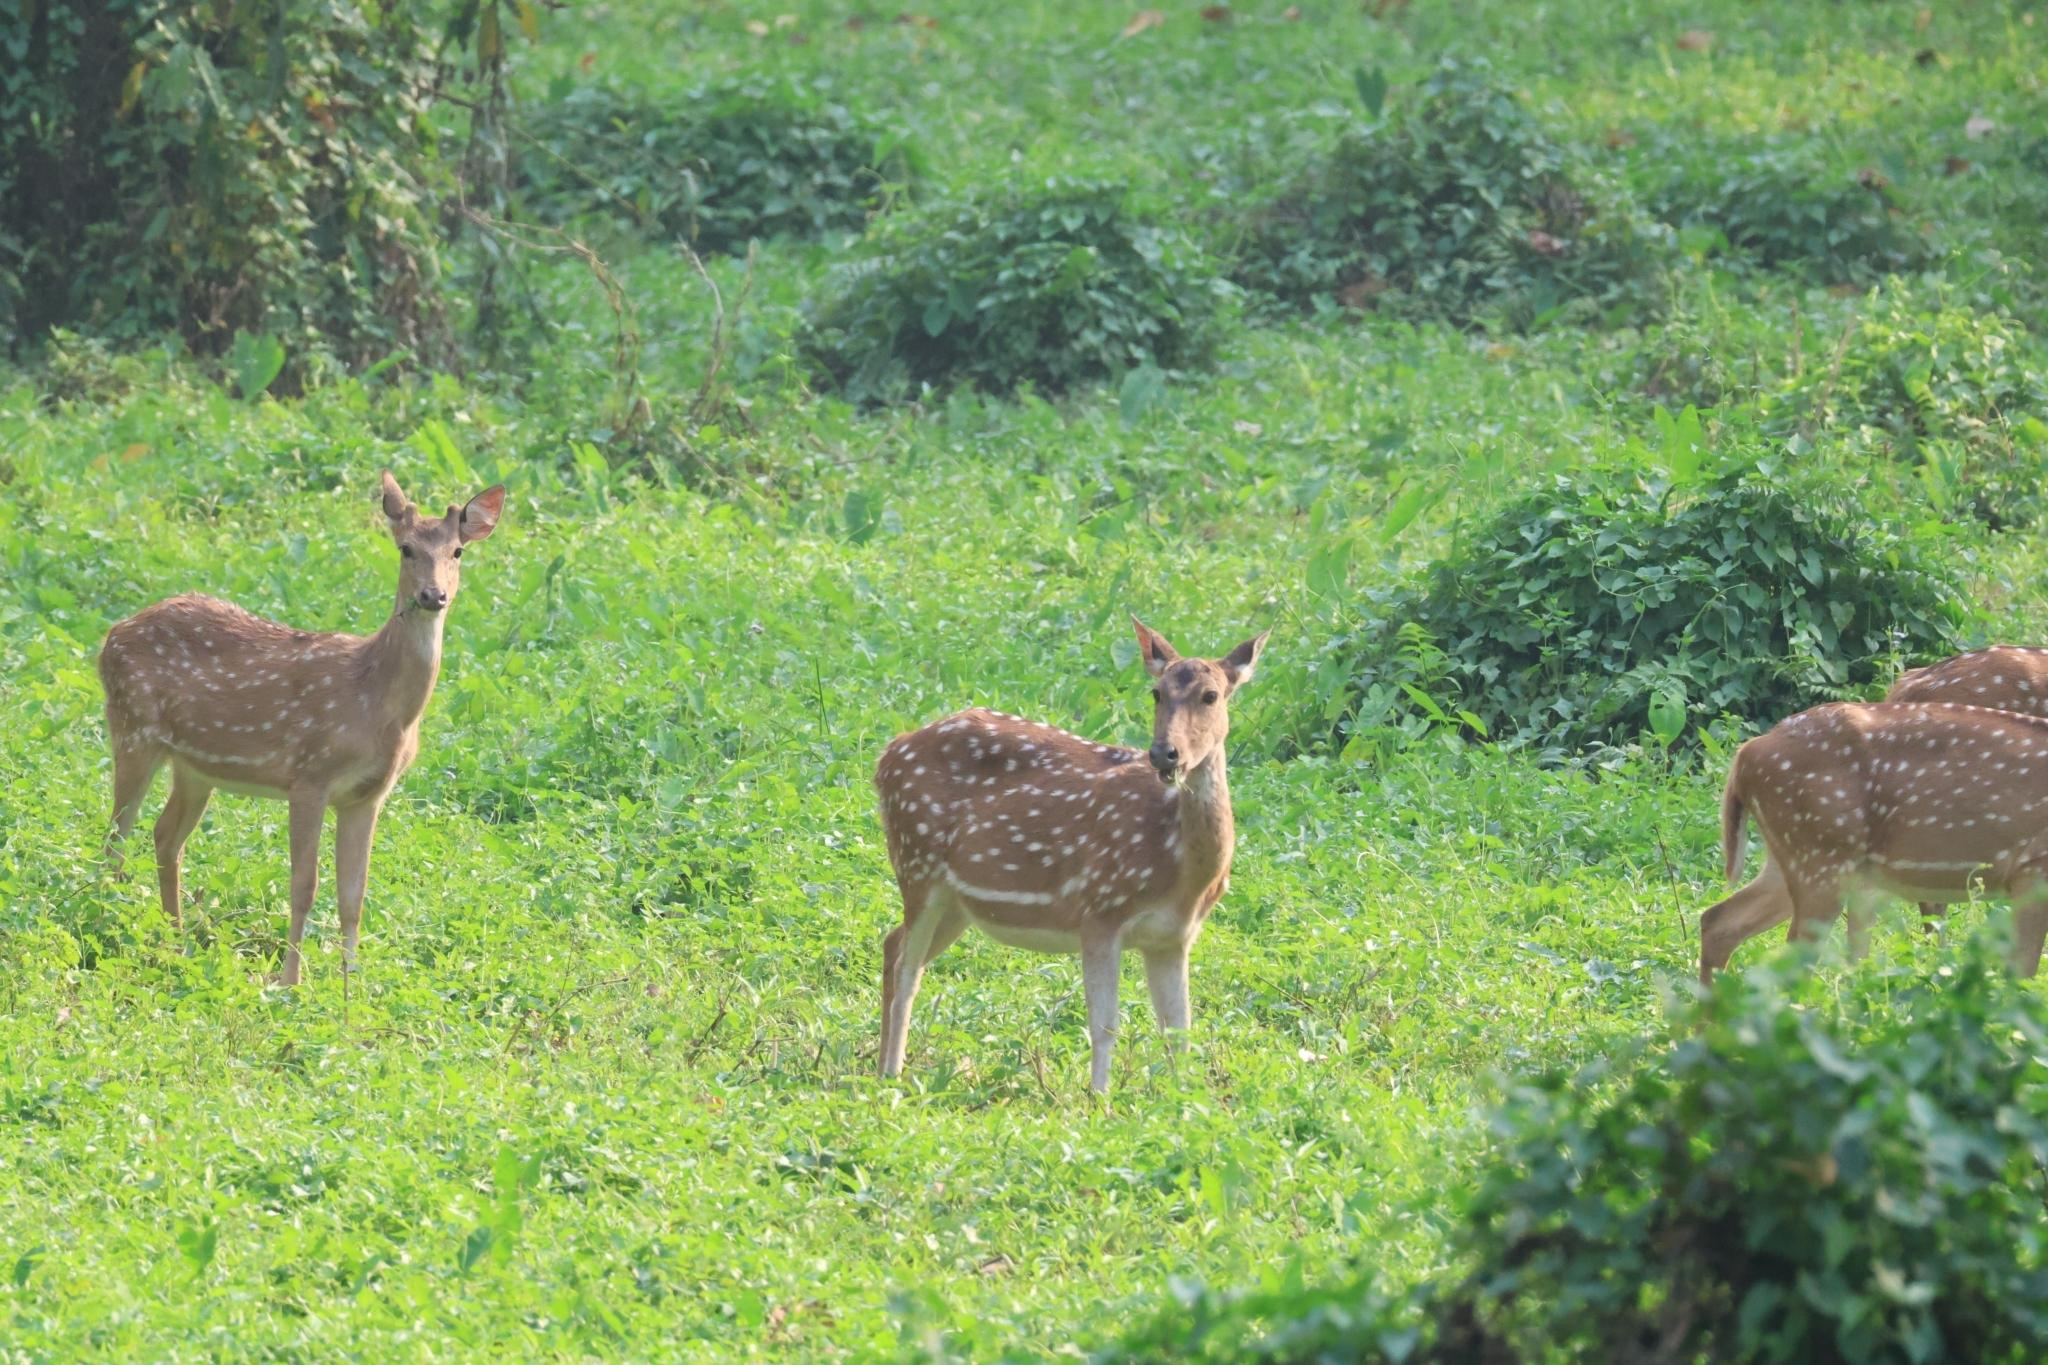Deer: (97, 471, 504, 986), (876, 634, 1262, 1089), (1699, 699, 2046, 983), (1884, 644, 2046, 718)
